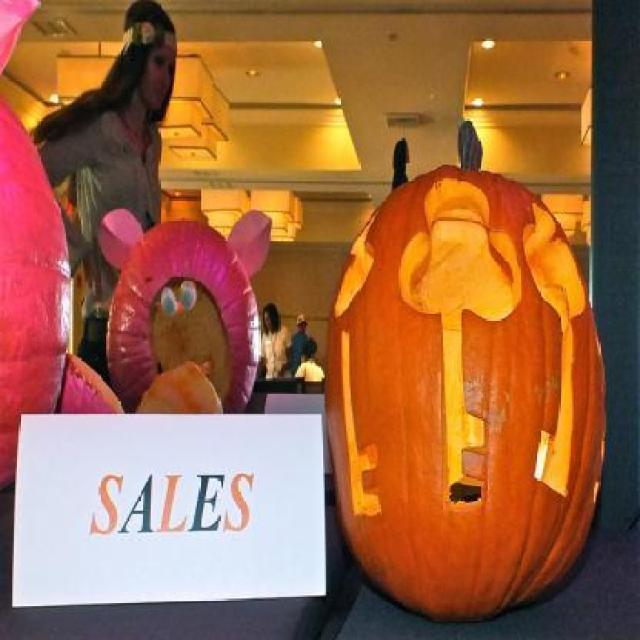Pumpkin: (324, 134, 608, 622), (96, 209, 272, 417), (0, 0, 69, 486), (135, 360, 223, 414), (54, 352, 126, 416)
